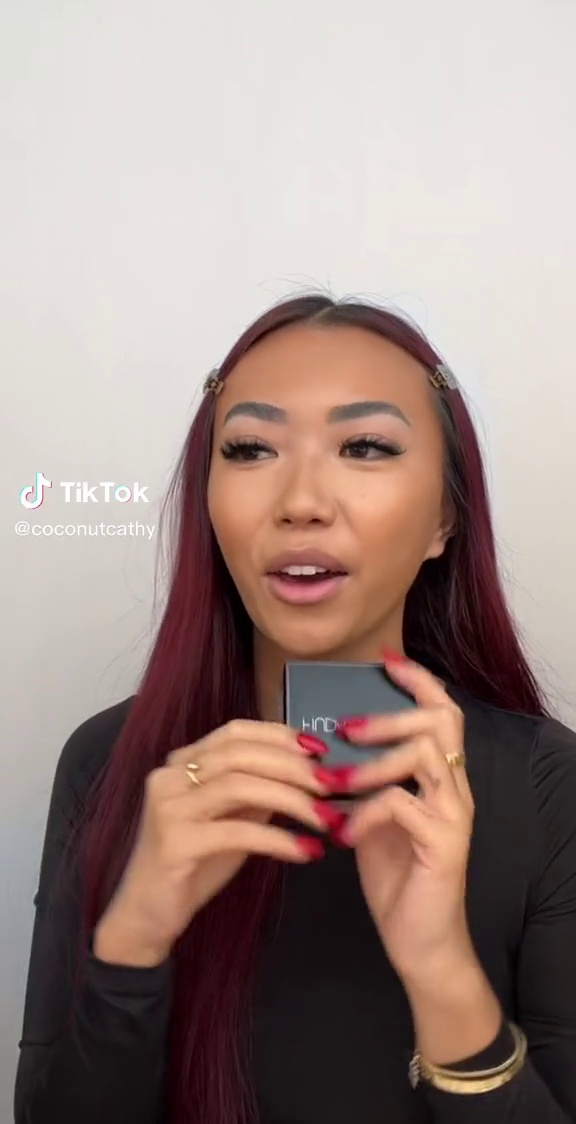train' :'yolo_data/train/images',: (278, 658, 444, 832)
